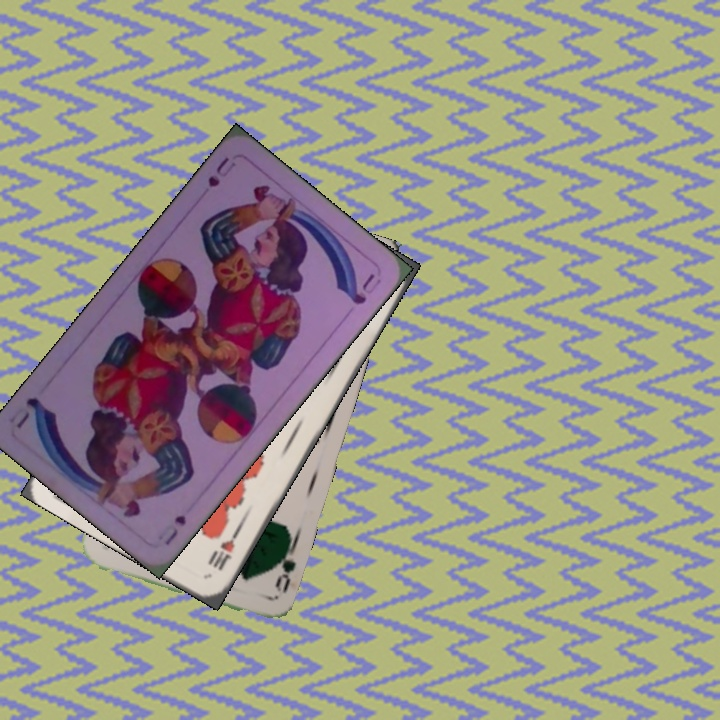GO: (268, 538, 299, 596)
H10: (204, 523, 243, 574)
SU: (203, 153, 239, 190), (160, 510, 189, 548)
